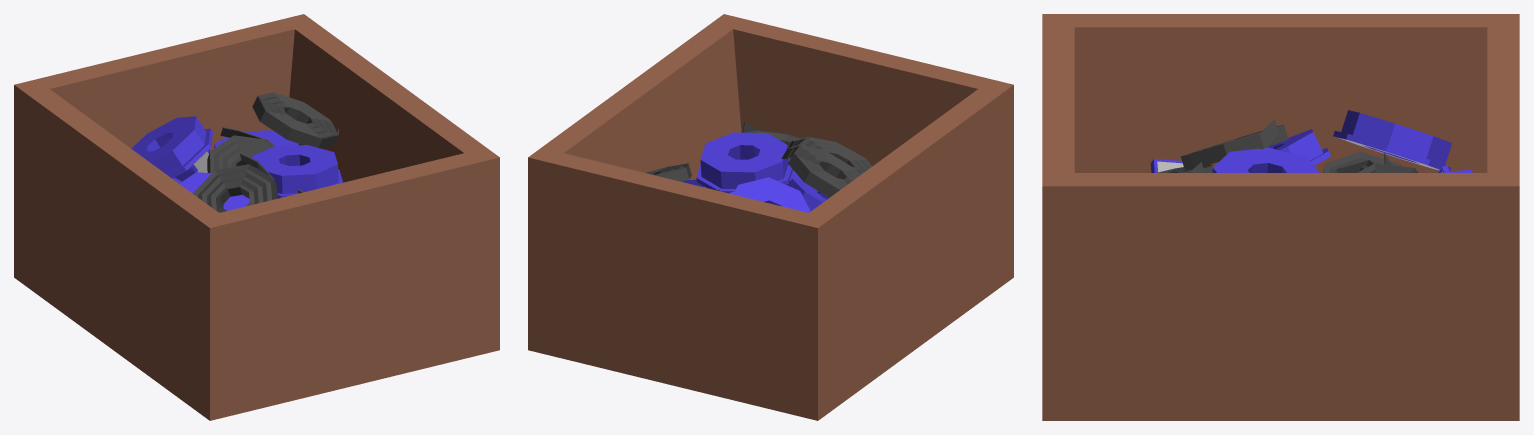
Rendered from caja_teflon.fbx.
The picture shows the model from 3 angles, left to right: view 1: azimuth 30°, elevation 25°; view 2: azimuth 150°, elevation 25°; view 3: azimuth 270°, elevation 25°; orthographic projection. The views are drawn at different scales.
Visible parts, largest first — view 1: caja_teflon; view 2: caja_teflon; view 3: caja_teflon.
Boxes of the visible parts, left/top/right/bottom form: caja_teflon: left=14, top=14, right=499, bottom=420; caja_teflon: left=528, top=14, right=1013, bottom=420; caja_teflon: left=1042, top=14, right=1519, bottom=420.
Size of the model in its own units: 0.7421 by 0.4714 by 0.8685.
